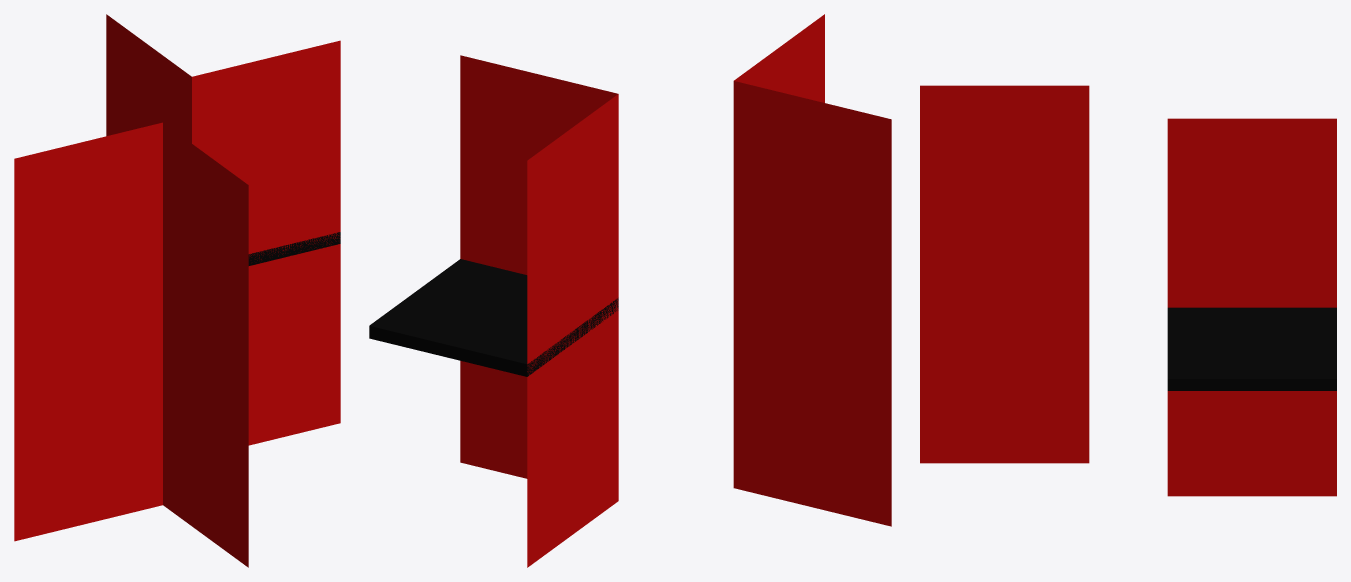
3 renders of one model, left to right at view 1: azimuth 30°, elevation 25°; view 2: azimuth 150°, elevation 25°; view 3: azimuth 270°, elevation 25°, orthographic. The views are drawn at different scales.
Parts seen in each view (by area): view 1: None_P_A_E_A_A_E_A_E_None; view 2: None_P_A_E_A_A_E_A_E_None; view 3: None_P_A_E_A_A_E_A_E_None.
Part boxes in pixels (box(x1,y1,x2,y2)): None_P_A_E_A_A_E_A_E_None: box(14, 14, 340, 567); None_P_A_E_A_A_E_A_E_None: box(369, 14, 891, 567); None_P_A_E_A_A_E_A_E_None: box(920, 85, 1336, 496).
Size of the model in its own units: 100 by 100 by 100.
